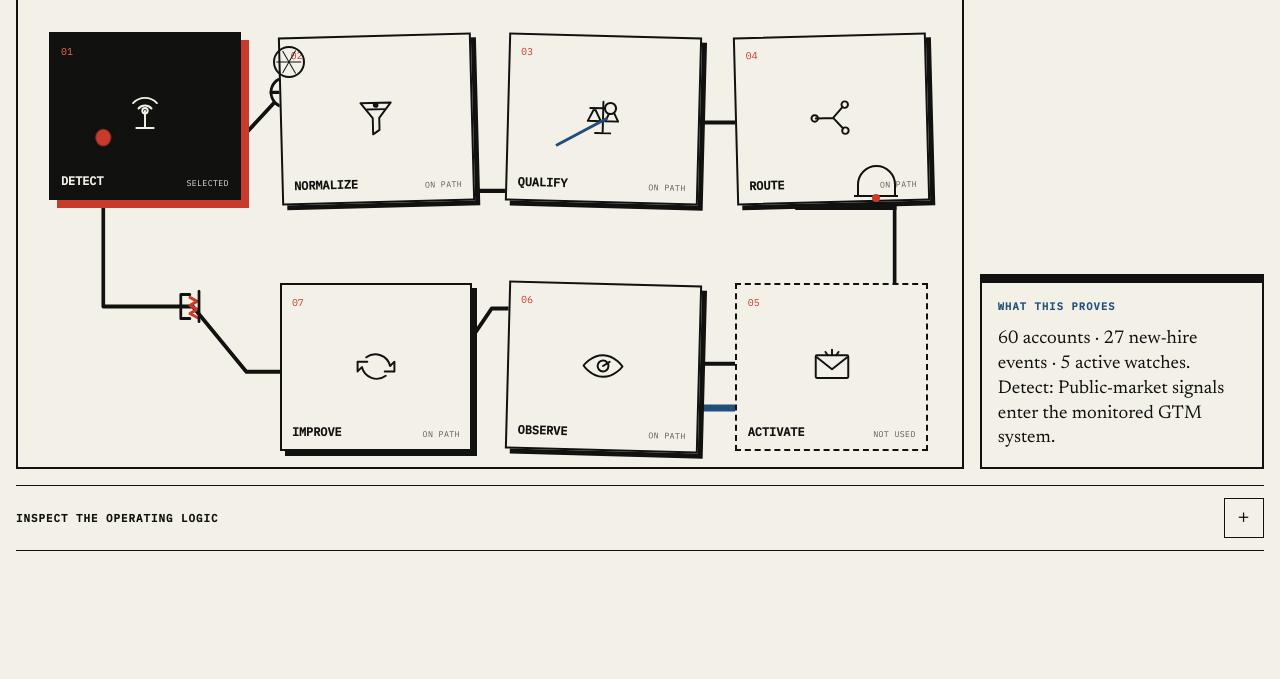
Test: ControlRoom › renders authored unavailable states instead of false zeroes for incomplete snapshots
(page scrolled)
Click the text "Inspect the operating logic": (117, 518) x1=16 y1=511 x2=219 y2=525
(page scrolled)
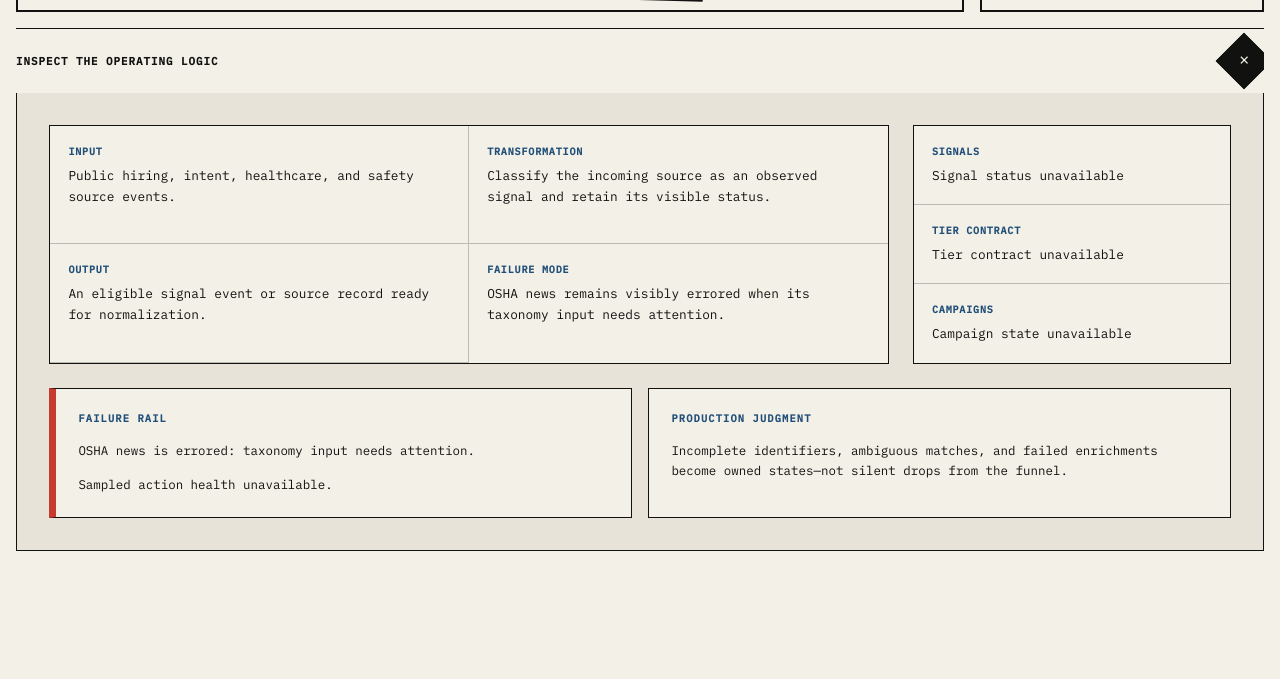
Expected: the element named "Control Room telemetry" shows "Signal status unavailable", x1=932 y1=167 x2=1124 y2=184
Expected: the element named "Control Room telemetry" shows "Tier contract unavailable", x1=932 y1=246 x2=1124 y2=263
Expected: the element named "Control Room telemetry" shows "Campaign state unavailable", x1=932 y1=325 x2=1132 y2=342
